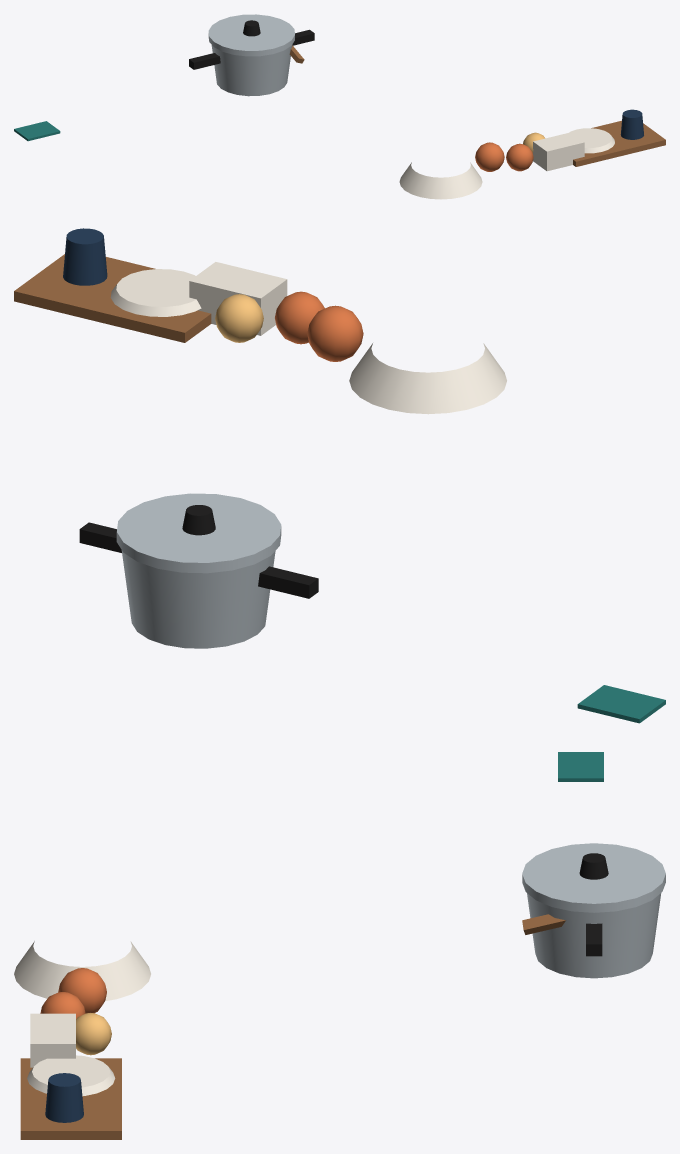
The model's file is kitchen-props-a.glb.
3 views of the same model, one above another, from view 1: azimuth 30°, elevation 25°; view 2: azimuth 150°, elevation 25°; view 3: azimuth 270°, elevation 25° (orthographic). The views are drawn at different scales.
Visible parts, largest first — view 1: pot_body, pot_lid, prop_bowl_01_shell, prop_tray_01, ingredient_bread_01, prop_plate_01, ingredient_tomato_01, prop_cup_01, ingredient_tomato_02, prop_cloth_01, pot_handle_left; view 2: pot_body, pot_lid, prop_bowl_01_shell, prop_tray_01, ingredient_bread_01, prop_plate_01, ingredient_tomato_01, prop_cup_01, prop_cloth_01, ingredient_onion_01, ingredient_tomato_02, pot_handle_left (+2 smaller); view 3: pot_lid, pot_body, prop_tray_01, prop_bowl_01_shell, ingredient_bread_01, prop_plate_01, prop_cup_01, ingredient_tomato_01, prop_cloth_01, ingredient_onion_01, ingredient_tomato_02, pot_lid_handle (+2 smaller).
Boxes of the visible parts, x1,y1,x2,y2 form: pot_body: [211, 44, 292, 96]; pot_lid: [208, 14, 294, 56]; prop_bowl_01_shell: [399, 162, 482, 199]; prop_tray_01: [573, 120, 665, 166]; ingredient_bread_01: [533, 132, 584, 171]; prop_plate_01: [569, 128, 614, 153]; ingredient_tomato_01: [475, 142, 504, 171]; prop_cup_01: [620, 109, 643, 139]; ingredient_tomato_02: [506, 143, 533, 171]; prop_cloth_01: [14, 121, 60, 141]; pot_handle_left: [189, 53, 220, 69]; pot_body: [121, 550, 275, 648]; pot_lid: [116, 493, 281, 573]; prop_bowl_01_shell: [349, 343, 506, 414]; prop_tray_01: [14, 254, 211, 342]; ingredient_bread_01: [189, 262, 287, 335]; prop_plate_01: [110, 269, 201, 316]; ingredient_tomato_01: [307, 305, 363, 361]; prop_cup_01: [63, 228, 107, 285]; prop_cloth_01: [577, 685, 665, 723]; ingredient_onion_01: [215, 294, 263, 342]; ingredient_tomato_02: [275, 291, 324, 344]; pot_handle_left: [258, 566, 318, 598]; pot_lid: [522, 843, 665, 912]; pot_body: [527, 893, 661, 978]; prop_tray_01: [20, 1058, 121, 1139]; prop_bowl_01_shell: [14, 941, 150, 1001]; ingredient_bread_01: [30, 1013, 75, 1067]; prop_plate_01: [27, 1055, 115, 1096]; prop_cup_01: [45, 1073, 83, 1122]; ingredient_tomato_01: [58, 968, 106, 1013]; prop_cloth_01: [558, 752, 603, 781]; ingredient_onion_01: [76, 1013, 111, 1055]; ingredient_tomato_02: [40, 992, 85, 1018]; pot_lid_handle: [579, 853, 608, 879].
Bounding box in the file's own units: 5.54 × 0.645 × 3.99.
